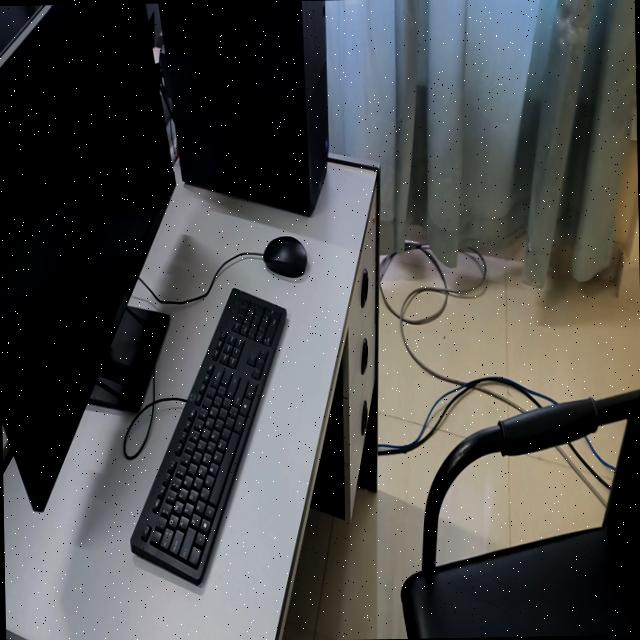Chair: (400, 388, 640, 639)
Cpu: (159, 0, 328, 215)
Keyboard: (131, 290, 285, 584)
Monitor: (0, 3, 174, 511)
Mouse: (263, 236, 307, 277)
